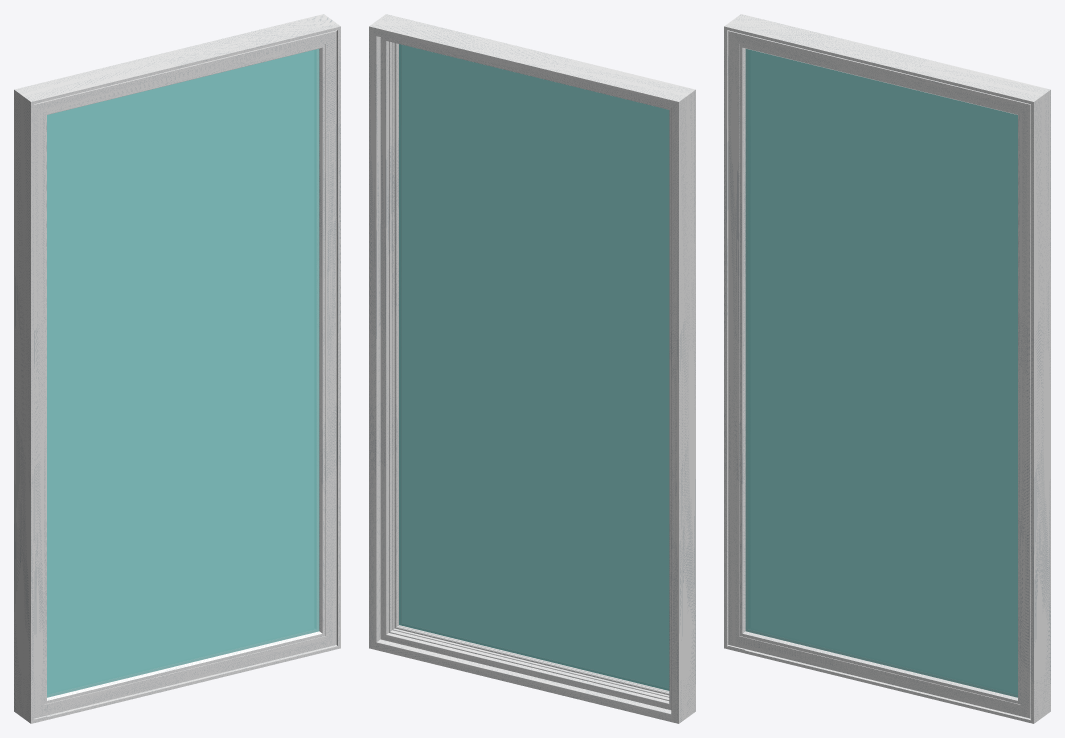
3 renders of one model, left to right at view 1: azimuth 30°, elevation 25°; view 2: azimuth 150°, elevation 25°; view 3: azimuth 330°, elevation 25°, orthographic.
Parts seen in each view (by area): view 1: SketchUp.615, SketchUp.613, SketchUp.612; view 2: SketchUp.613, SketchUp.615, SketchUp.612, SketchUp.614; view 3: SketchUp.615, SketchUp.613, SketchUp.612.
Part boxes in pixels (x1=…): SketchUp.615: x1=47, y1=49, x2=319, y2=697; SketchUp.613: x1=47, y1=50, x2=315, y2=694; SketchUp.612: x1=14, y1=14, x2=340, y2=723; SketchUp.613: x1=399, y1=44, x2=669, y2=690; SketchUp.615: x1=402, y1=45, x2=668, y2=687; SketchUp.612: x1=369, y1=14, x2=695, y2=723; SketchUp.614: x1=399, y1=44, x2=668, y2=689; SketchUp.615: x1=745, y1=49, x2=1017, y2=697; SketchUp.613: x1=749, y1=50, x2=1017, y2=694; SketchUp.612: x1=724, y1=14, x2=1050, y2=723.
Bounding box in the file's own units: 1.22 × 0.1159 × 2.34.
